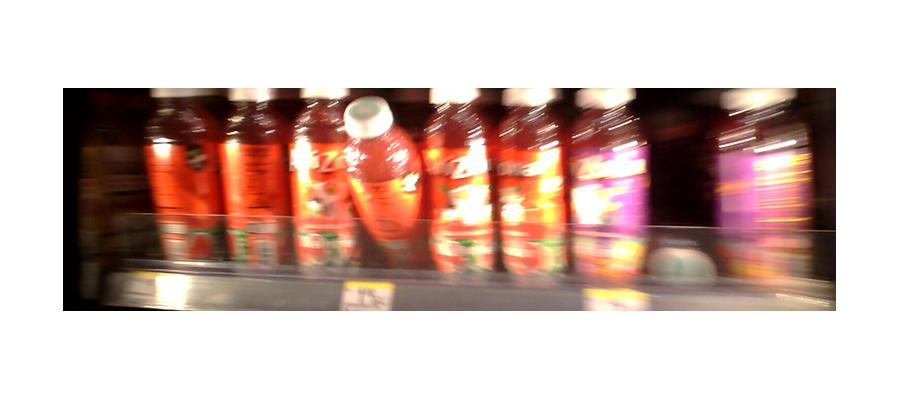bottle: (722, 100, 813, 292), (570, 87, 646, 299), (422, 87, 495, 280), (495, 92, 568, 283), (143, 91, 222, 267), (345, 95, 423, 273), (222, 91, 290, 272), (292, 87, 348, 277)
